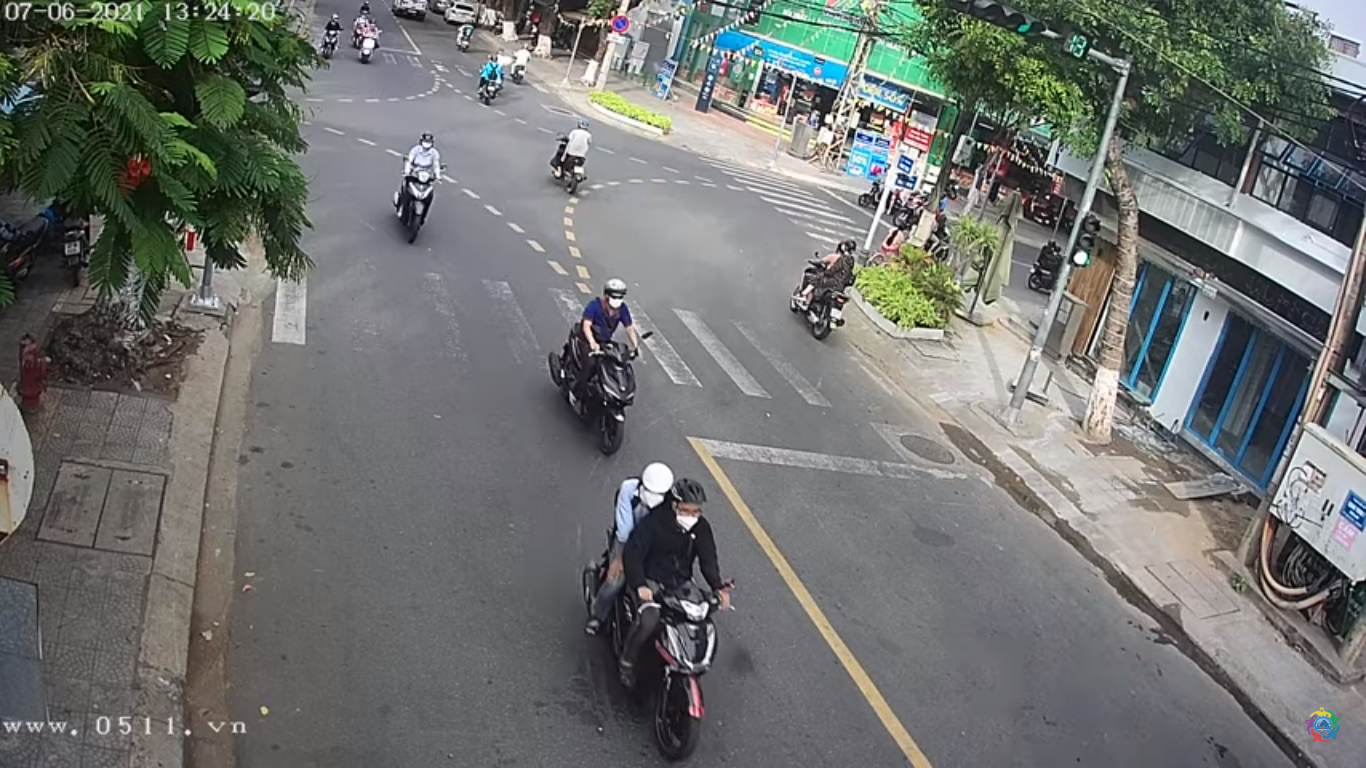motorbike: (580, 459, 743, 759), (550, 273, 654, 457), (387, 132, 457, 246)
